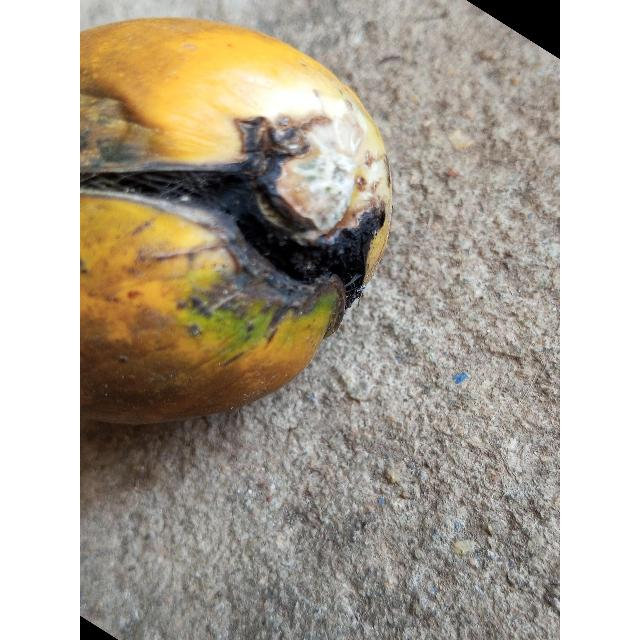damaged: (80, 17, 393, 427)
